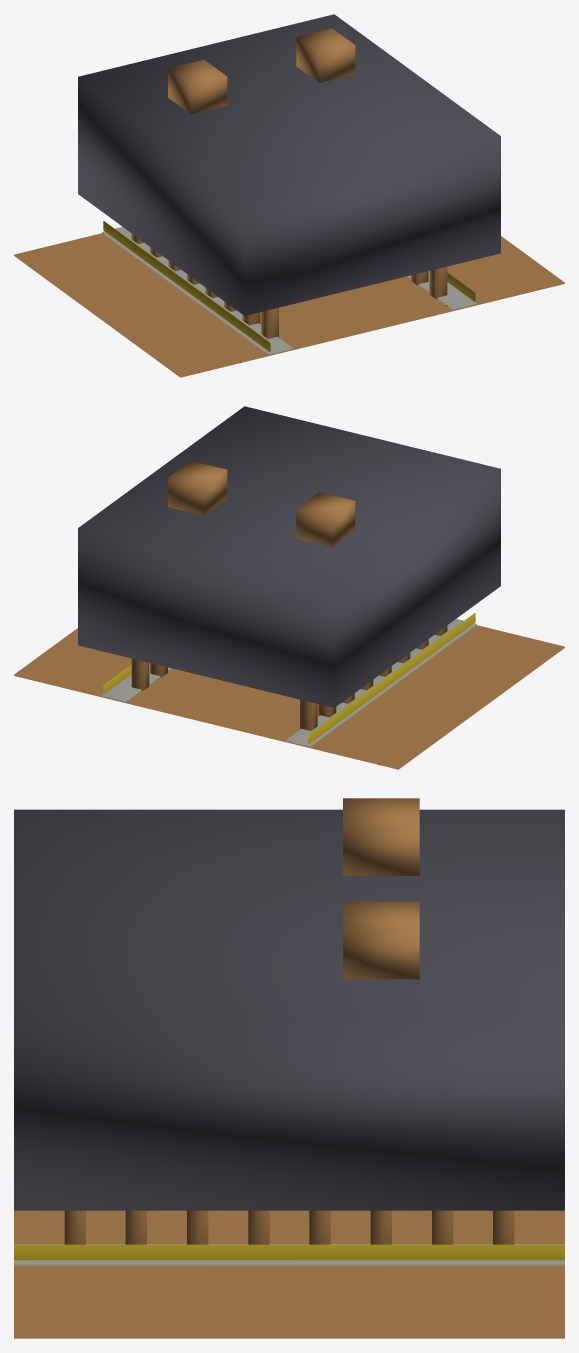
The picture shows the model from 3 angles, top to bottom: view 1: azimuth 30°, elevation 25°; view 2: azimuth 150°, elevation 25°; view 3: azimuth 270°, elevation 25°; orthographic projection. The views are drawn at different scales.
Visible parts, largest first — view 1: building_simplified, road_simplified; view 2: building_simplified, road_simplified; view 3: building_simplified, road_simplified.
Part boxes in pixels (x1,y1,x2,y2): building_simplified: (78,14,500,351); road_simplified: (14,227,564,377); building_simplified: (78,406,500,743); road_simplified: (14,619,564,769); building_simplified: (14,798,564,1260); road_simplified: (14,1210,564,1338).
Bounding box in the file's own units: 48 × 23 × 36.
2 materials, 2 textured.
